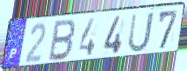2: (24, 22, 48, 65)
4: (103, 15, 124, 56), (78, 17, 96, 58)
7: (157, 10, 180, 51)
B: (46, 18, 78, 63)
U: (126, 11, 155, 54)
